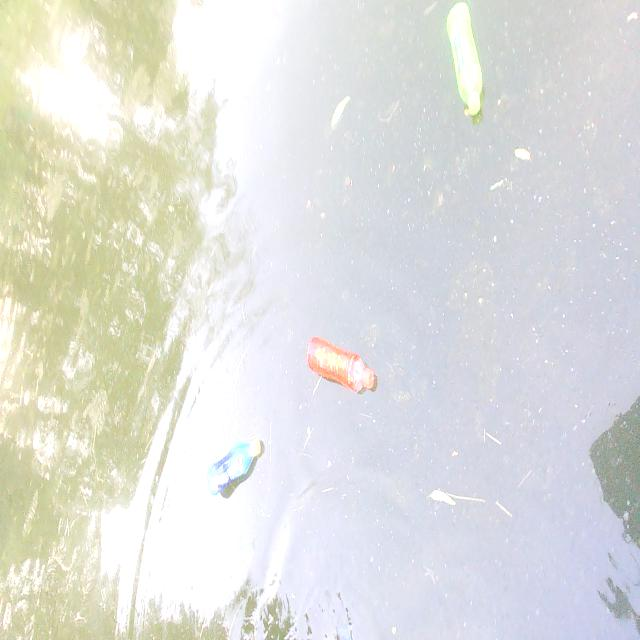bottle: (292, 326, 389, 403), (438, 3, 494, 132), (192, 427, 277, 503)
